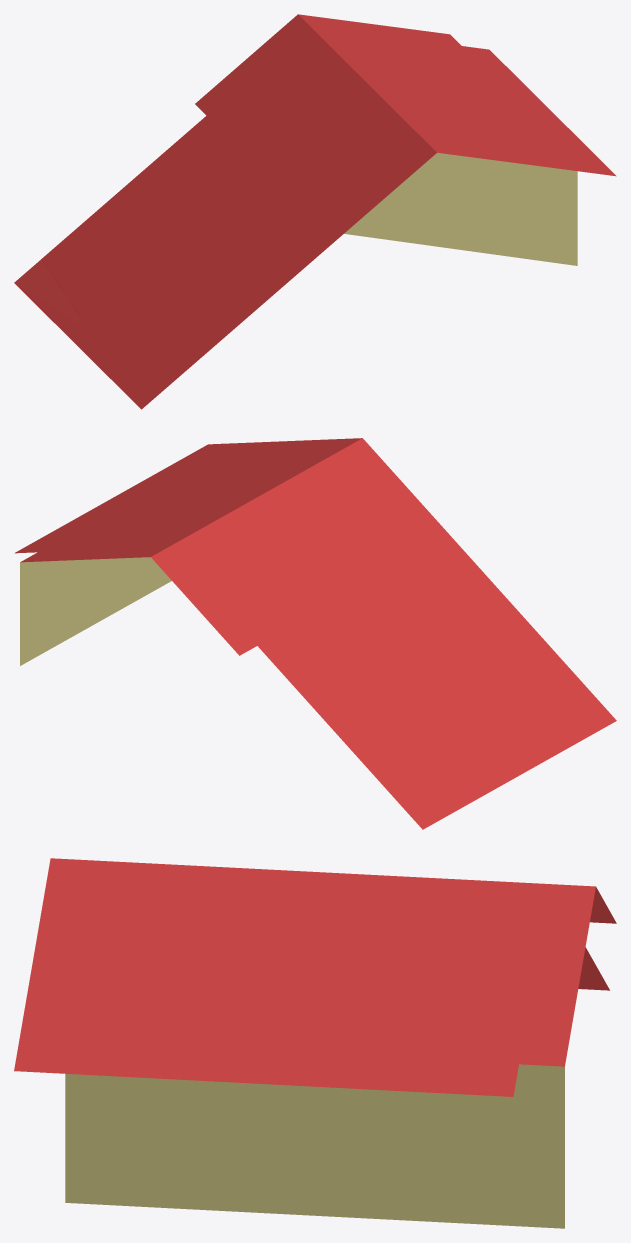
The picture shows the model from 3 angles, top to bottom: view 1: azimuth 30°, elevation 25°; view 2: azimuth 150°, elevation 25°; view 3: azimuth 270°, elevation 25°; orthographic projection. The views are drawn at different scales.
Size of the model in its own units: 9.22 by 6.52 by 3.75.
